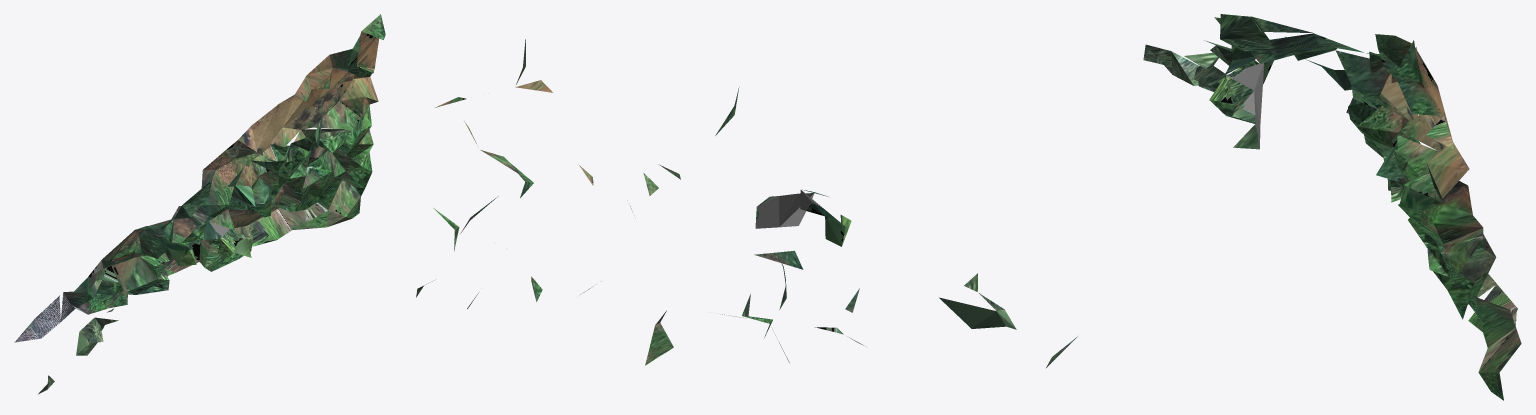
Rendered from Tile_+001_+004.gltf.
3 views of the same model, side by side, from view 1: azimuth 30°, elevation 25°; view 2: azimuth 150°, elevation 25°; view 3: azimuth 270°, elevation 25° (orthographic). The views are drawn at different scales.
Visible parts, largest first — view 1: default; view 2: default; view 3: default.
Boxes of the visible parts, <box> form: default: <box>14,14,385,394</box>; default: <box>416,39,1077,367</box>; default: <box>1143,14,1521,400</box>.
Size of the model in its own units: 57.97 by 28.24 by 27.18.
5 materials, 5 textured.
